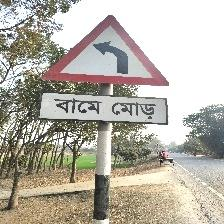Left-Turn: (38, 14, 171, 128)
